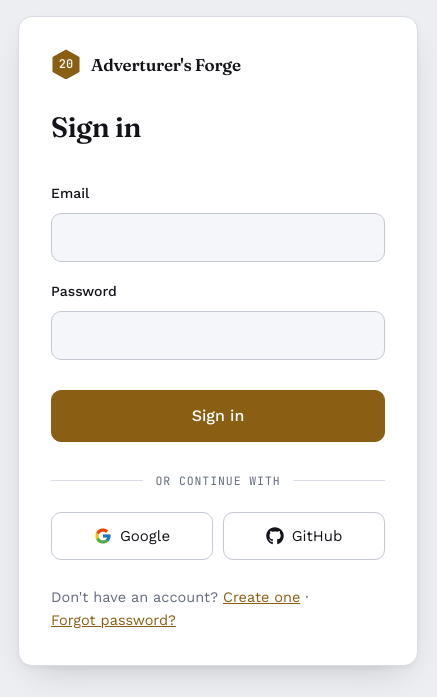
Test case: Login › sends a reset link without revealing whether the account exists
Click the button "Forgot password?": {"x": 114, "y": 621} [51, 609, 176, 633]
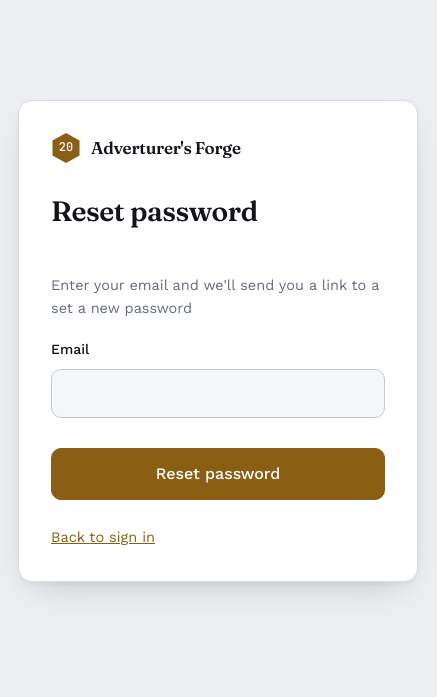
In the field labelled "Email": {"x": 218, "y": 393} [51, 369, 385, 418], type "a@b.com"
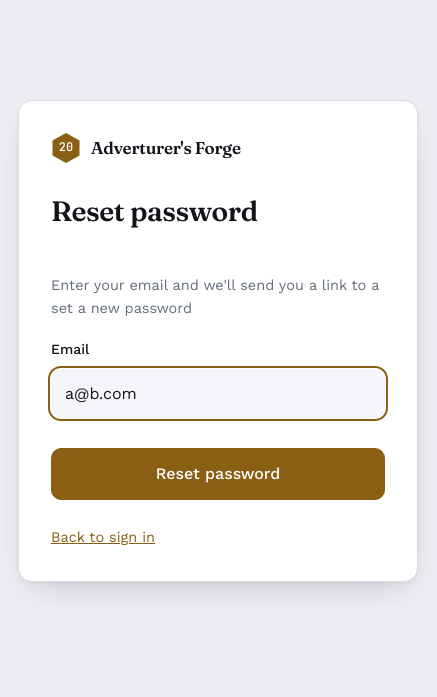
Click the button "Reset password": {"x": 218, "y": 474} [51, 448, 385, 500]
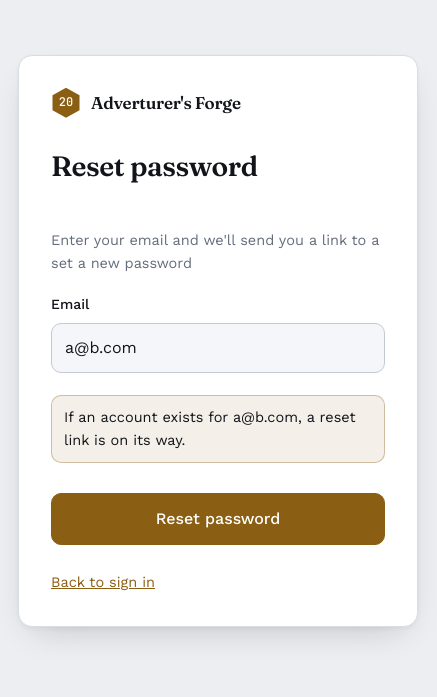
Expected: the message shows "If an account exists", [64, 409, 356, 449]
